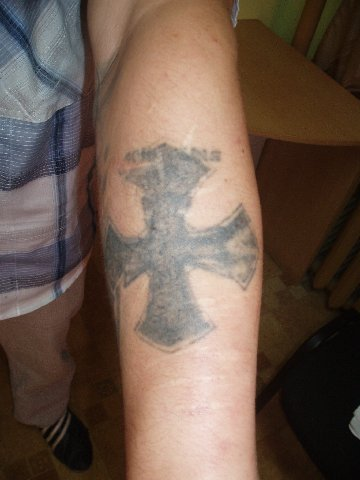tatu9_krest: (100, 141, 265, 342)
